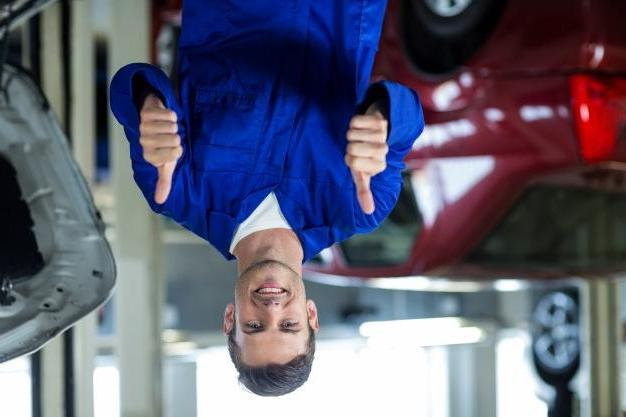thumbsdown: (344, 115, 389, 214), (139, 107, 184, 204)
